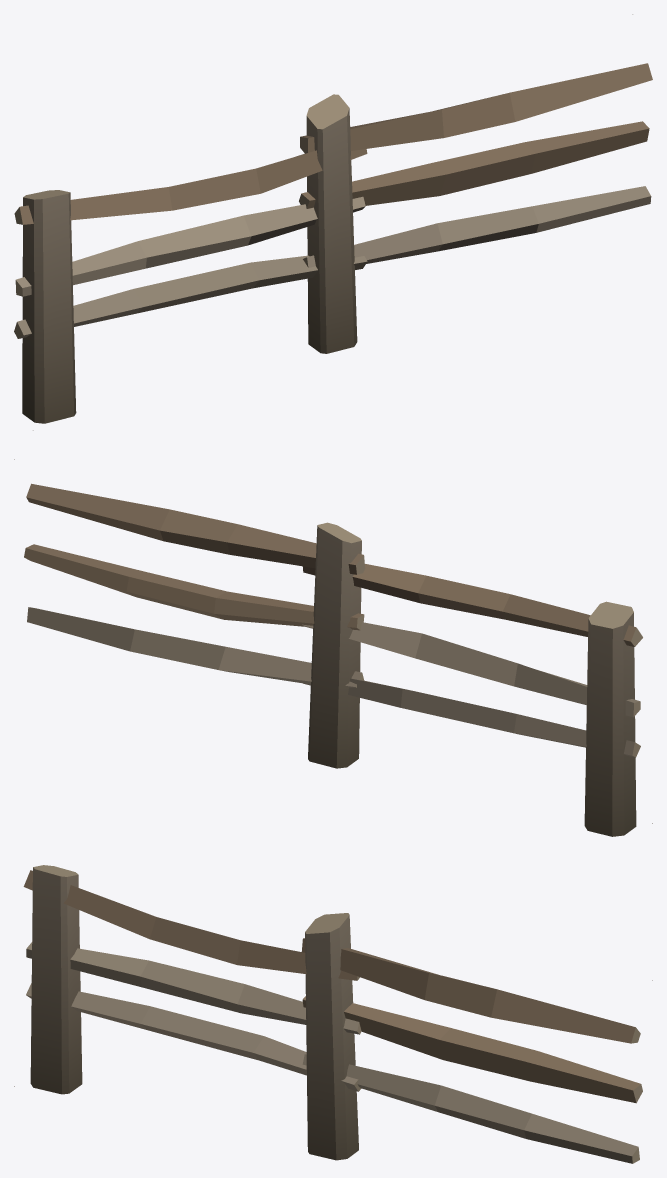
The model's file is CreekFenceSection2_wood.glb.
The picture shows the model from 3 angles, top to bottom: view 1: azimuth 30°, elevation 25°; view 2: azimuth 150°, elevation 25°; view 3: azimuth 330°, elevation 25°; orthographic projection. The views are drawn at different scales.
Visible parts, largest first — view 1: CreekFenceSection2_wood; view 2: CreekFenceSection2_wood; view 3: CreekFenceSection2_wood.
Boxes of the visible parts, x1,y1,x2,y2 form: CreekFenceSection2_wood: (14, 14, 652, 430); CreekFenceSection2_wood: (14, 459, 652, 836); CreekFenceSection2_wood: (14, 865, 652, 1163).
Bounding box in the file's own units: 11.05 × 4.06 × 0.8713.
